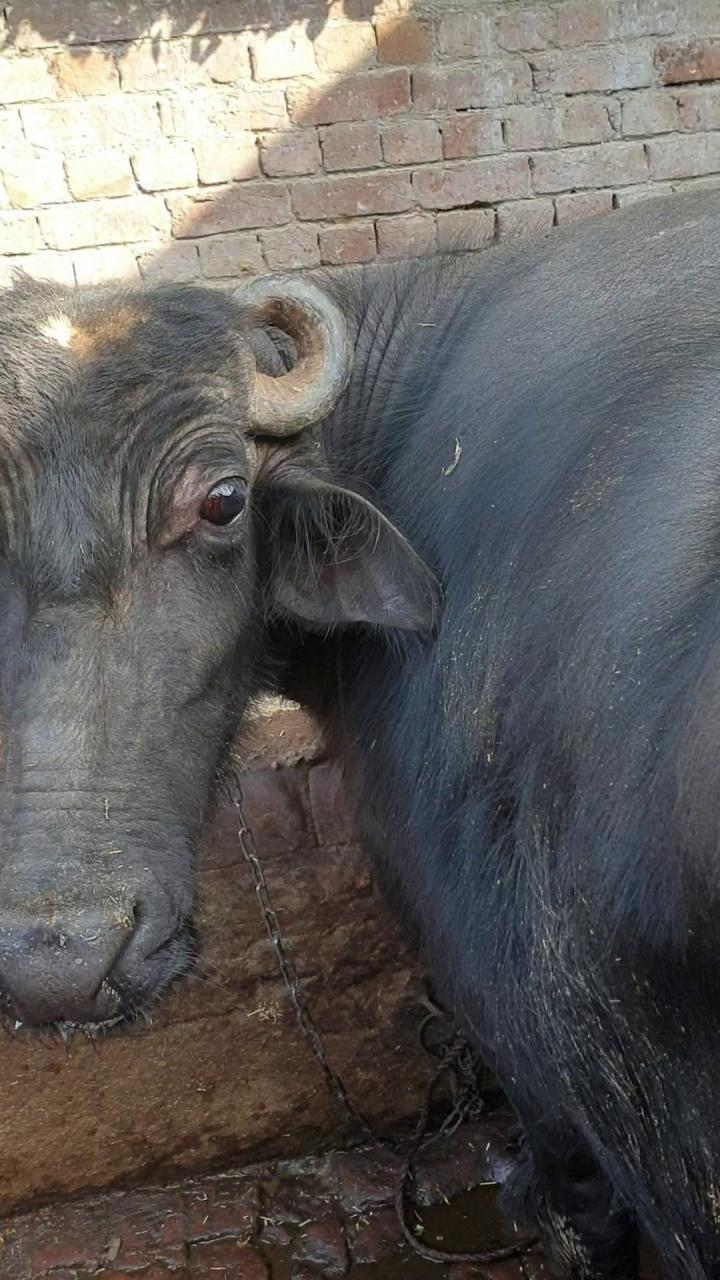cows: (0, 278, 302, 1068)
